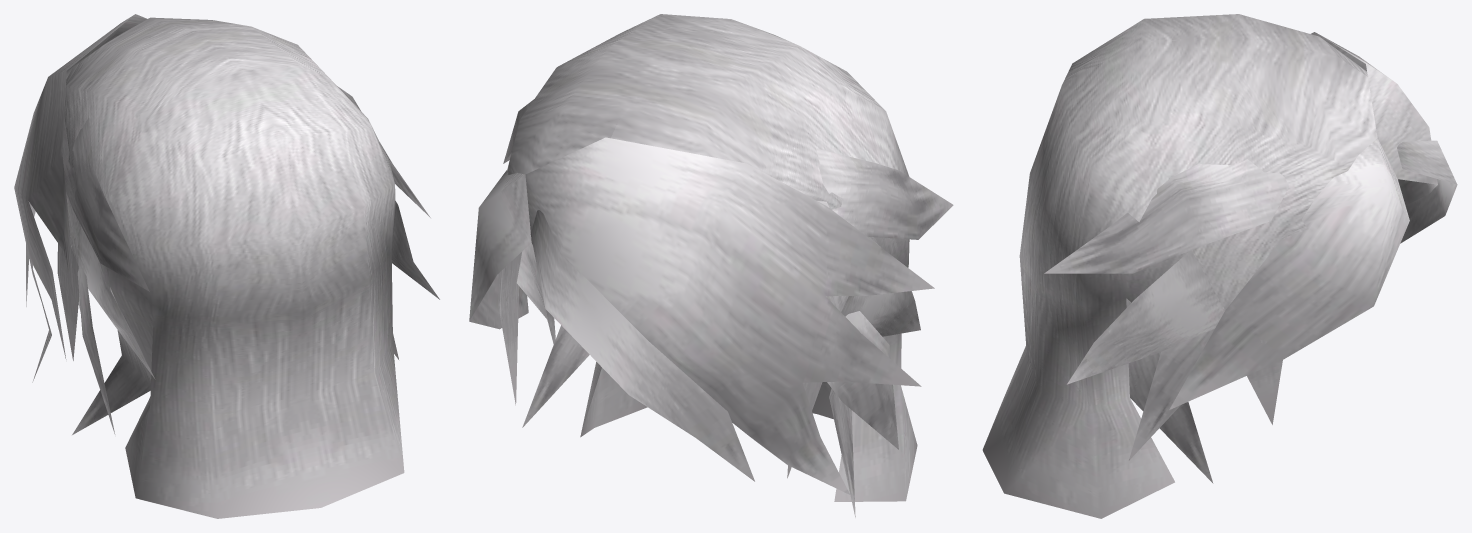
Rendered from Martial arts male hair 06.glb.
The picture shows the model from 3 angles, left to right: view 1: azimuth 30°, elevation 25°; view 2: azimuth 150°, elevation 25°; view 3: azimuth 270°, elevation 25°; orthographic projection. The views are drawn at different scales.
Parts seen in each view (by area): view 1: 武侠男头发06_0; view 2: 武侠男头发06_0; view 3: 武侠男头发06_0.
Boxes of the visible parts, x1,y1,x2,y2 form: 武侠男头发06_0: (14, 14, 439, 518); 武侠男头发06_0: (469, 14, 953, 517); 武侠男头发06_0: (982, 14, 1457, 518).
Size of the model in its own units: 0.2167 by 0.2431 by 0.2532.
1 material, 1 textured.
